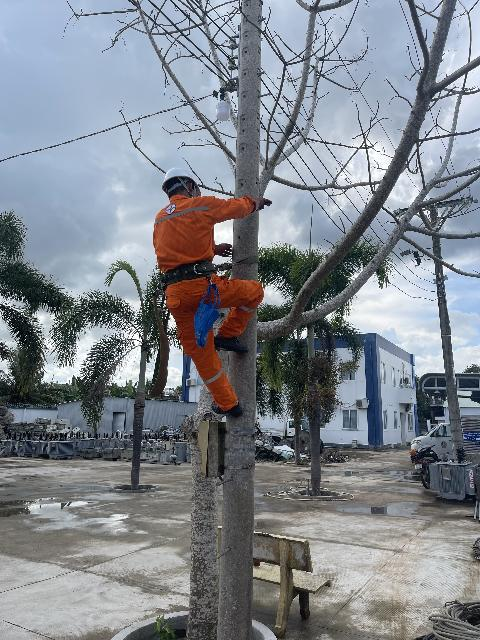gloves: (205, 240, 243, 260), (244, 194, 281, 213)
harness: (151, 260, 225, 291)
helmet: (161, 159, 213, 198)
shoes: (204, 390, 251, 421), (208, 329, 252, 355)
